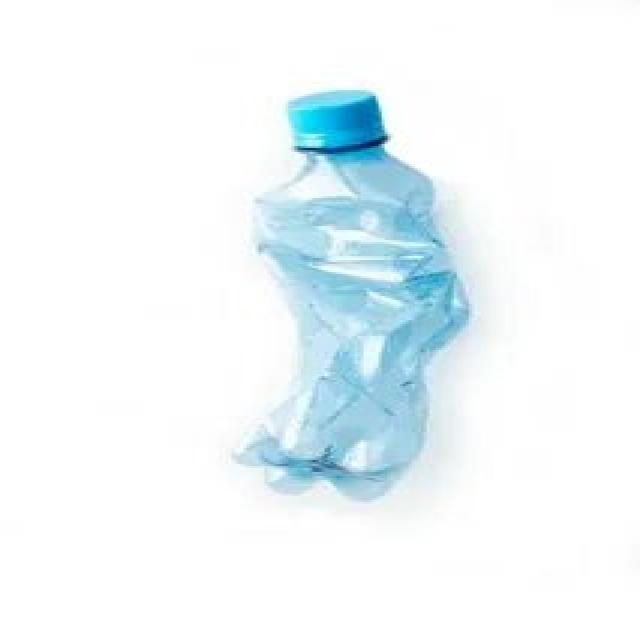blue: (228, 140, 476, 505)
